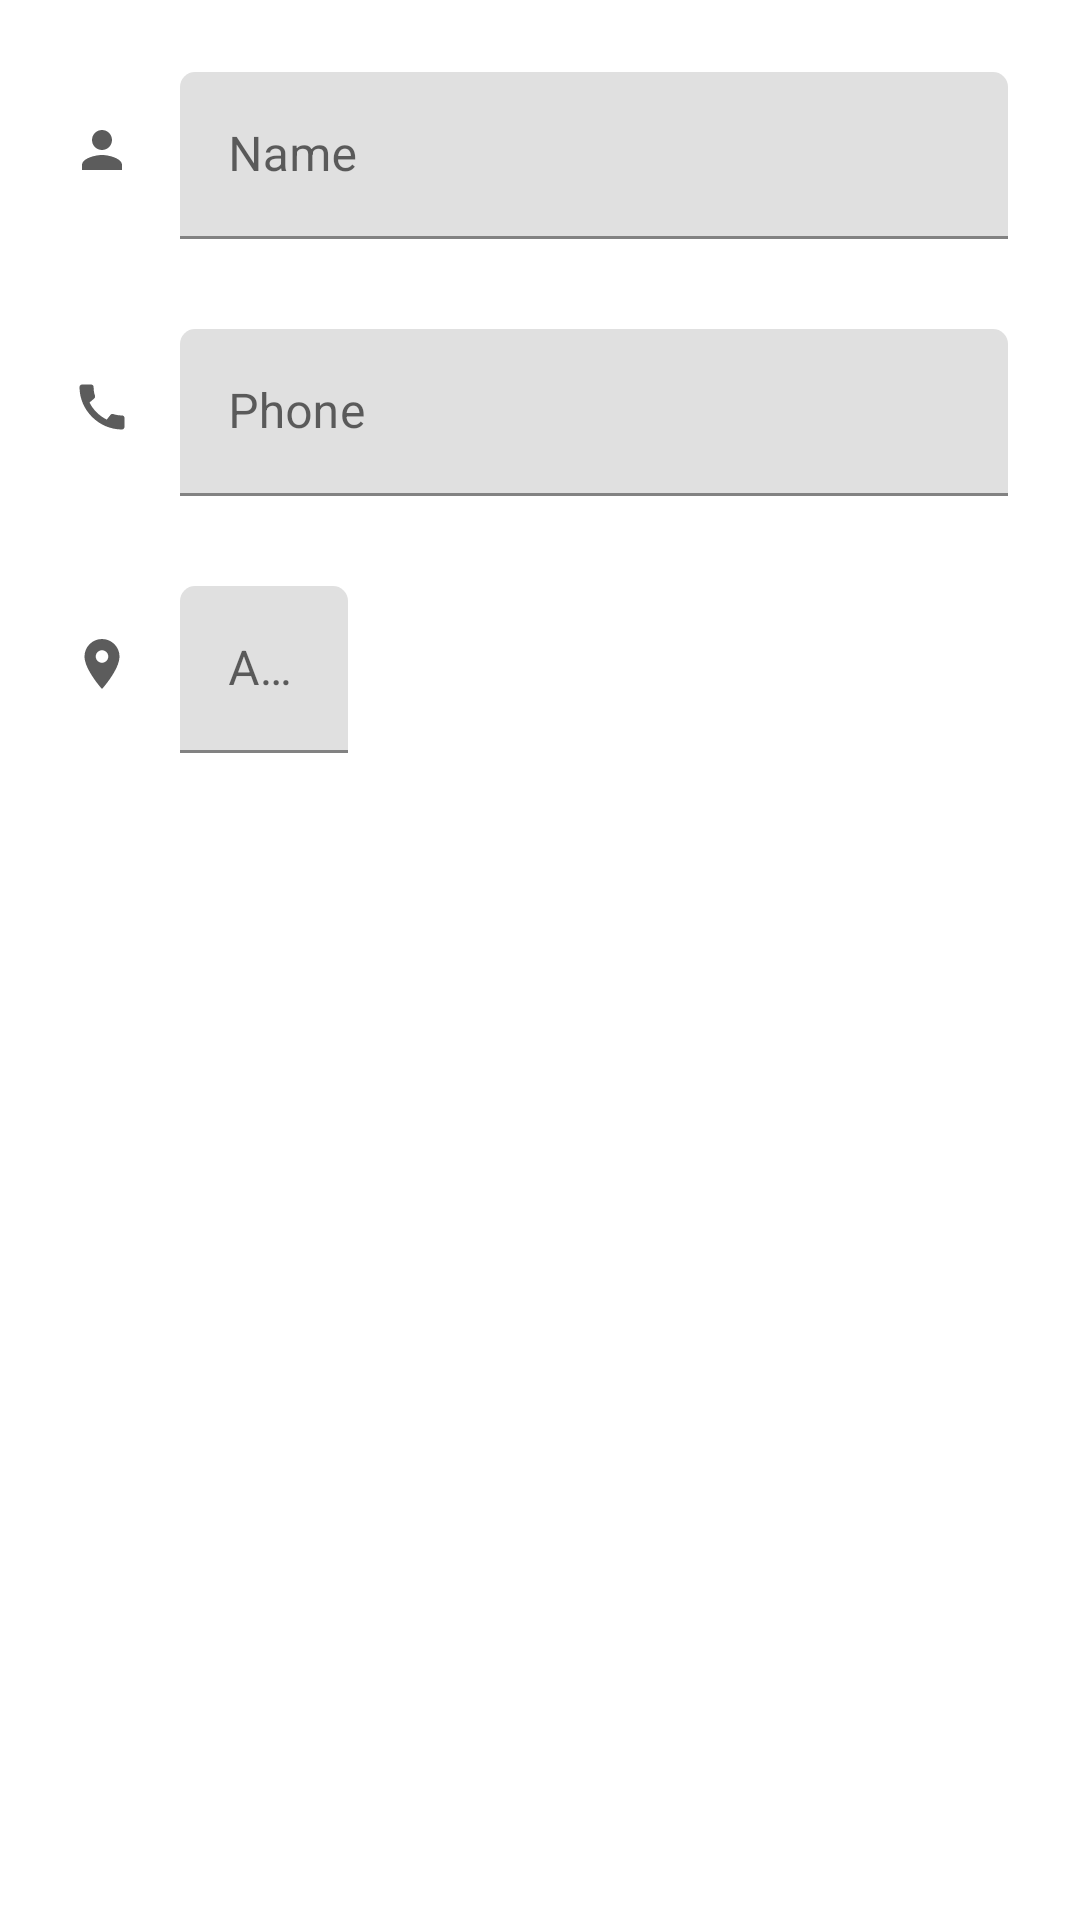

Named icons in this screenshot (1080×1920) and their centers, point (x, y):
call: point (102, 407)
location on: point (102, 664)
person: point (102, 150)
